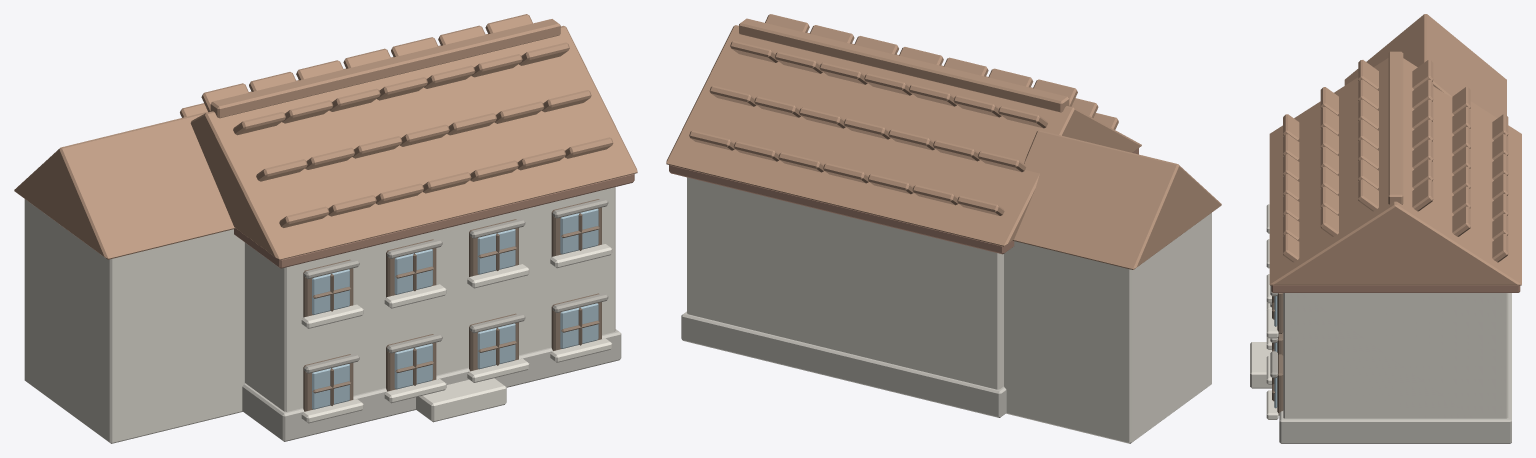
File: manor.glb
3 views of the same model, side by side, from view 1: azimuth 30°, elevation 25°; view 2: azimuth 150°, elevation 25°; view 3: azimuth 270°, elevation 25° (orthographic). The views are drawn at different scales.
Parts seen in each view (by area): view 1: roof, wing, wall, wingr, ridge, skirt, eave, step, wglass.006, wglass.007, wglass.005, wglass.001 (+22 smaller); view 2: wall, roof, wing, wingr, skirt, ridge, eave, shingle.035, shingle.036, shingle.037, shingle.039, shingle.041 (+3 smaller); view 3: roof, wall, skirt, wingr, ridge, eave, step, shingle.041, shingle.020, shingle.013, shingle.034, shingle.038 (+41 smaller).
Part boxes in pixels (x1,y1,x2,y2): roof: (190,25,637,260); wing: (24,199,244,443); wall: (245,187,615,411); wingr: (14,111,235,259); ridge: (210,19,560,118); skirt: (242,329,621,441); eave: (234,174,634,268); step: (416,378,506,422); wglass.006: (477,229,515,274); wglass.007: (560,208,598,254); wglass.005: (394,249,432,294); wglass.001: (394,343,432,389); wall: (687,177,1003,389); roof: (666,25,1141,246); wing: (1004,213,1211,443); wingr: (1013,130,1221,269); skirt: (681,311,1006,417); ridge: (739,18,1069,112); eave: (669,148,1138,254); shingle.035: (998,106,1047,128); shingle.036: (953,95,1001,117); shingle.037: (909,84,956,106); shingle.039: (819,62,867,84); shingle.041: (730,41,778,62); roof: (1269,58,1521,285); wall: (1283,293,1508,418); skirt: (1279,293,1511,443); wingr: (1344,14,1506,118); ridge: (1388,51,1403,204); eave: (1271,285,1520,292); step: (1250,342,1271,388); shingle.041: (1412,179,1433,211); shingle.020: (1358,179,1378,211); shingle.013: (1320,206,1338,236); shingle.034: (1452,206,1470,236); shingle.038: (1412,119,1433,149).
Size of the model in its own units: 3.25 by 1.84 by 1.81.
